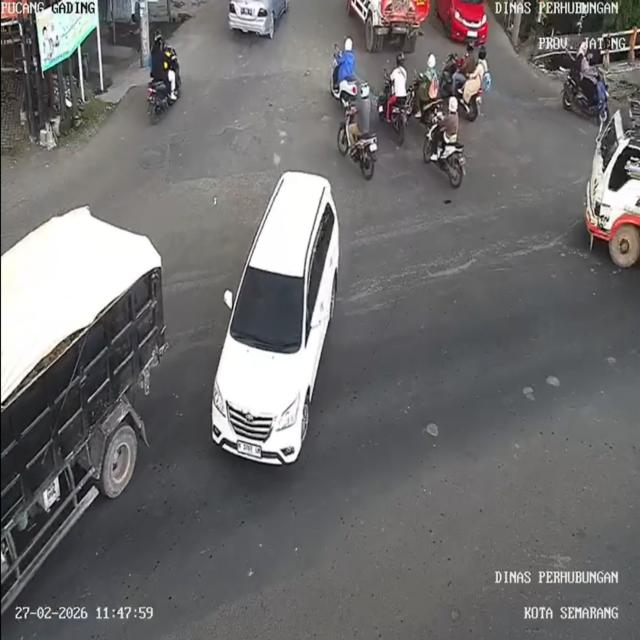motorcycle: (556, 66, 614, 123), (426, 117, 467, 181), (338, 110, 378, 175), (442, 56, 481, 116), (144, 69, 186, 123), (381, 84, 412, 140), (409, 76, 443, 116), (332, 59, 357, 105)
person: (150, 33, 177, 80), (352, 80, 375, 134), (443, 95, 465, 147), (391, 49, 411, 102), (476, 48, 494, 98), (422, 52, 441, 99), (338, 34, 356, 79), (569, 40, 589, 77), (582, 49, 598, 89), (460, 39, 476, 78)
rider_region: (334, 82, 381, 179), (560, 40, 612, 124), (422, 95, 467, 188), (141, 29, 183, 123), (443, 38, 490, 120), (383, 50, 411, 144), (329, 35, 359, 103), (412, 50, 441, 116)
